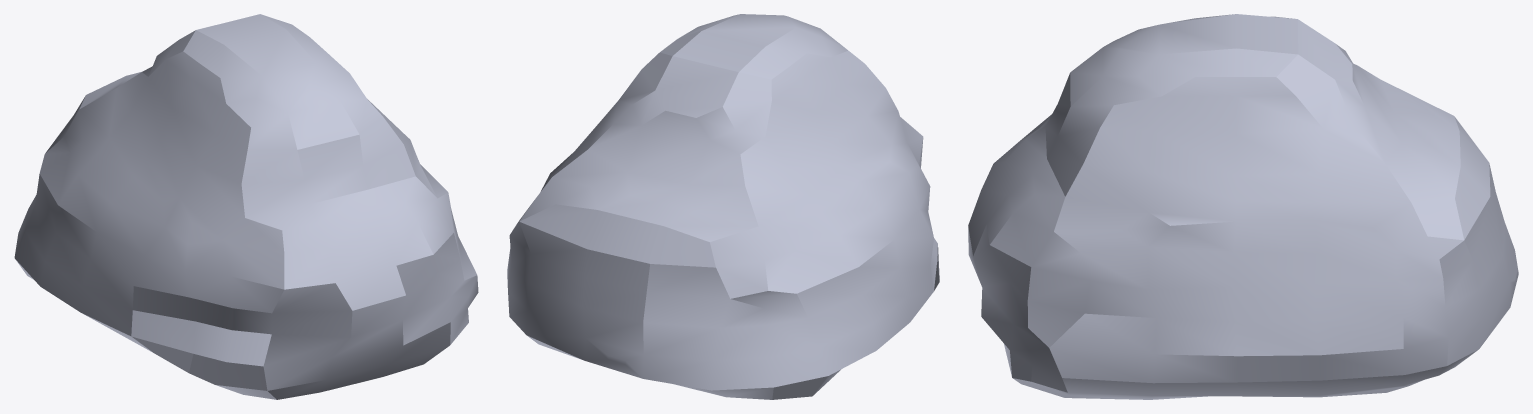
Rendered from stone_02.fbx.
The picture shows the model from 3 angles, left to right: view 1: azimuth 30°, elevation 25°; view 2: azimuth 150°, elevation 25°; view 3: azimuth 270°, elevation 25°; orthographic projection. The views are drawn at different scales.
Parts seen in each view (by area): view 1: Stone_02; view 2: Stone_02; view 3: Stone_02.
Boxes of the visible parts, x1,y1,x2,y2 form: Stone_02: (14, 14, 478, 399); Stone_02: (507, 14, 939, 399); Stone_02: (968, 14, 1518, 399).
Bounding box in the file's own units: 32.27 × 25.98 × 40.26.
